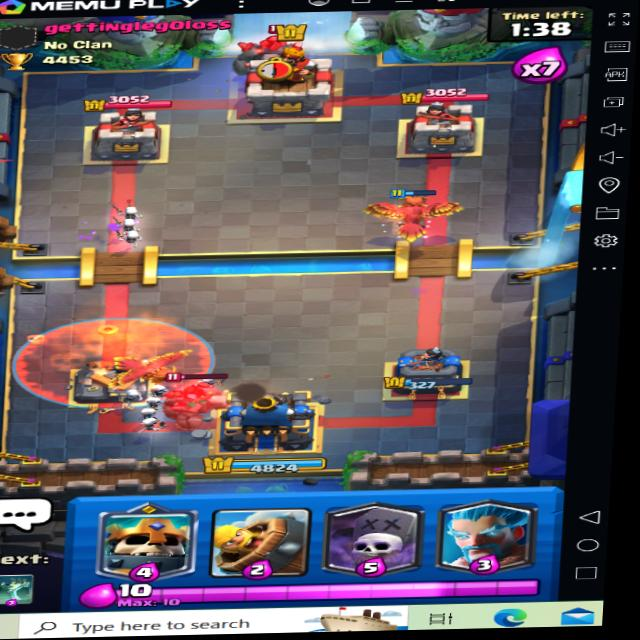golem: (140, 369, 245, 432)
